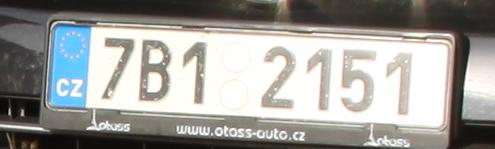1: (308, 49, 331, 111), (387, 52, 409, 115), (184, 42, 206, 104)
2: (262, 47, 293, 109)
5: (343, 49, 374, 111)
7: (104, 39, 132, 100)
B: (140, 41, 169, 101)
